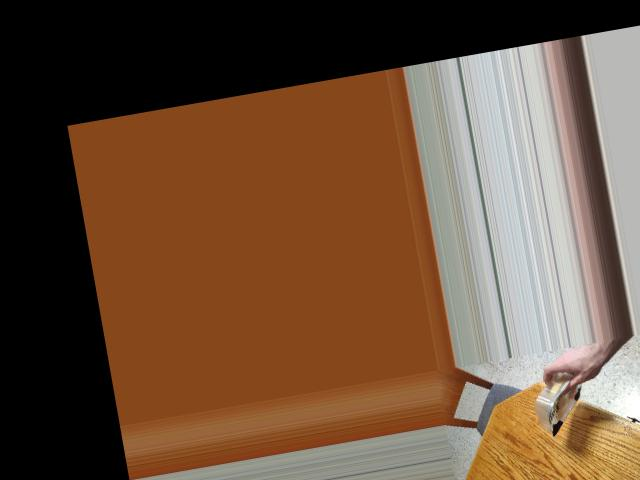cheese: (516, 365, 596, 433)
